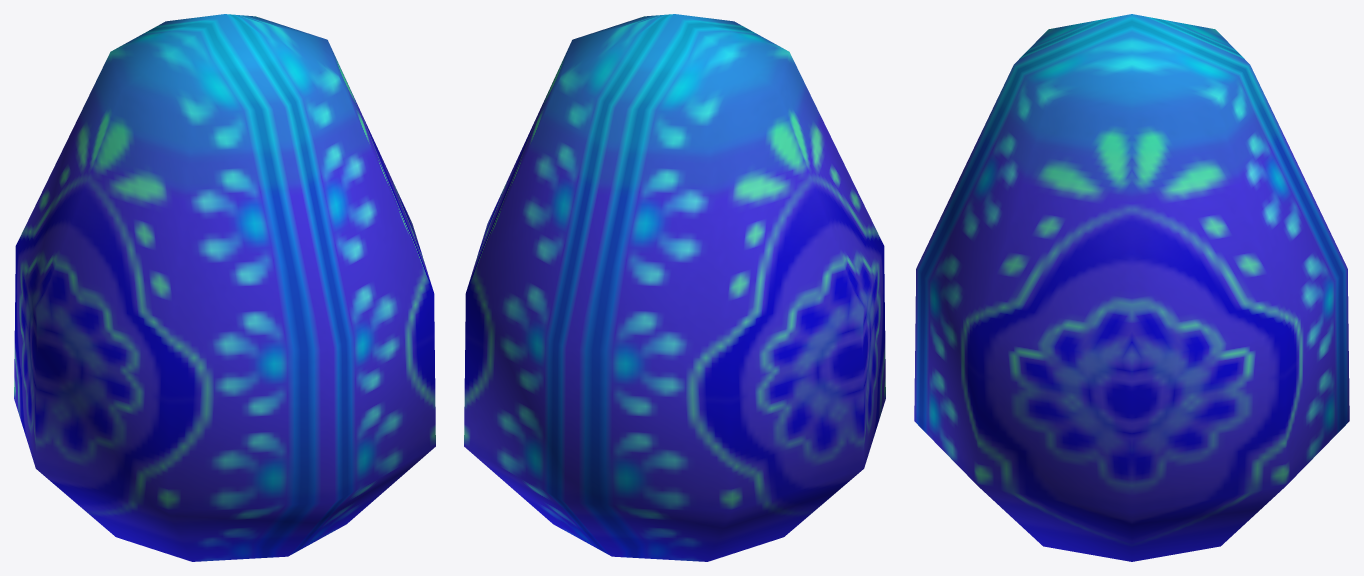
Rendered from Egg_10.FBX.
3 views of the same model, side by side, from view 1: azimuth 30°, elevation 25°; view 2: azimuth 150°, elevation 25°; view 3: azimuth 270°, elevation 25° (orthographic).
Visible parts, largest first — view 1: Egg_10; view 2: Egg_10; view 3: Egg_10.
Boxes of the visible parts, x1,y1,x2,y2 form: Egg_10: [14, 14, 435, 561]; Egg_10: [464, 14, 885, 561]; Egg_10: [914, 14, 1349, 561].
Size of the model in its own units: 0.4665 by 0.604 by 0.4665.
